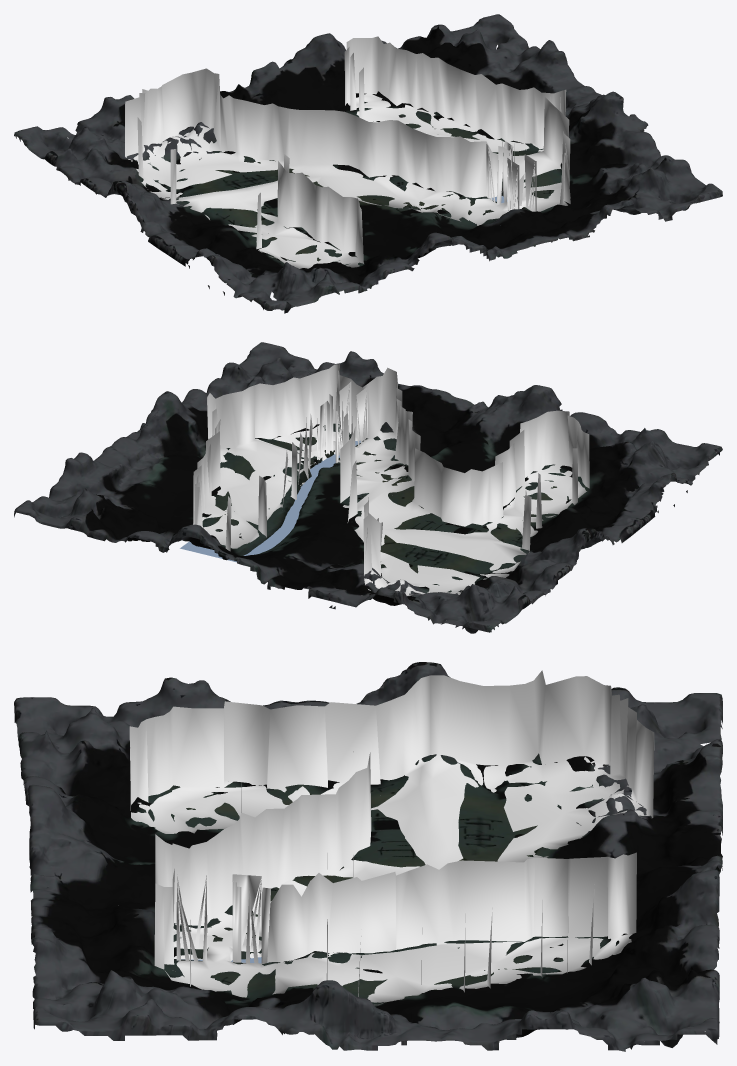
File: TERRAIN_compressed.glb
The picture shows the model from 3 angles, top to bottom: view 1: azimuth 30°, elevation 25°; view 2: azimuth 150°, elevation 25°; view 3: azimuth 270°, elevation 25°; orthographic projection. The views are drawn at different scales.
Visible parts, largest first — view 1: TERRAIN, RIDGID; view 2: TERRAIN, RIDGID, Plane; view 3: RIDGID, TERRAIN.
Part boxes in pixels (<box>): TERRAIN: <box>14,14,722,313</box>; RIDGID: <box>125,36,570,268</box>; TERRAIN: <box>14,342,722,633</box>; RIDGID: <box>193,364,589,595</box>; Plane: <box>180,440,360,562</box>; RIDGID: <box>129,670,654,1005</box>; TERRAIN: <box>14,662,722,1051</box>.
Bounding box in the file's own units: 82.09 × 15.72 × 72.11.
Materials: 2 (1 with a texture image).
